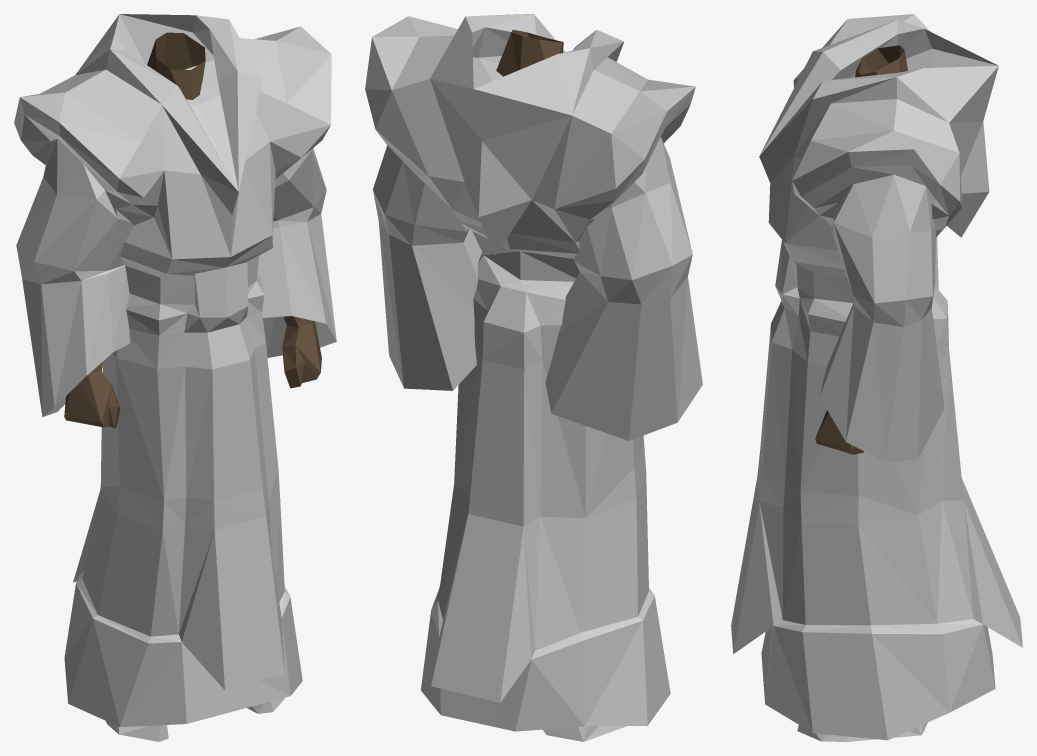
Rendered from ARMOR_KDF_L.OBJ.
The picture shows the model from 3 angles, left to right: view 1: azimuth 30°, elevation 25°; view 2: azimuth 150°, elevation 25°; view 3: azimuth 270°, elevation 25°; orthographic projection. The views are drawn at different scales.
Parts seen in each view (by area): view 1: ARMOR_KDF_L; view 2: ARMOR_KDF_L; view 3: ARMOR_KDF_L.
Boxes of the visible parts, x1,y1,x2,y2 form: ARMOR_KDF_L: [14, 14, 336, 741]; ARMOR_KDF_L: [365, 14, 702, 741]; ARMOR_KDF_L: [731, 14, 1022, 741].
Size of the model in its own units: 0.7809 by 1.68 by 0.6734.
